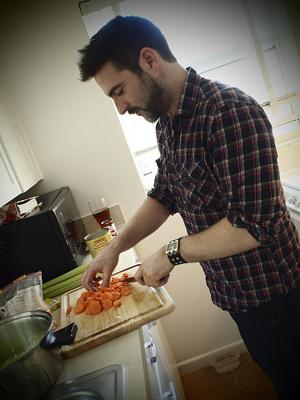person: (77, 10, 300, 400)
